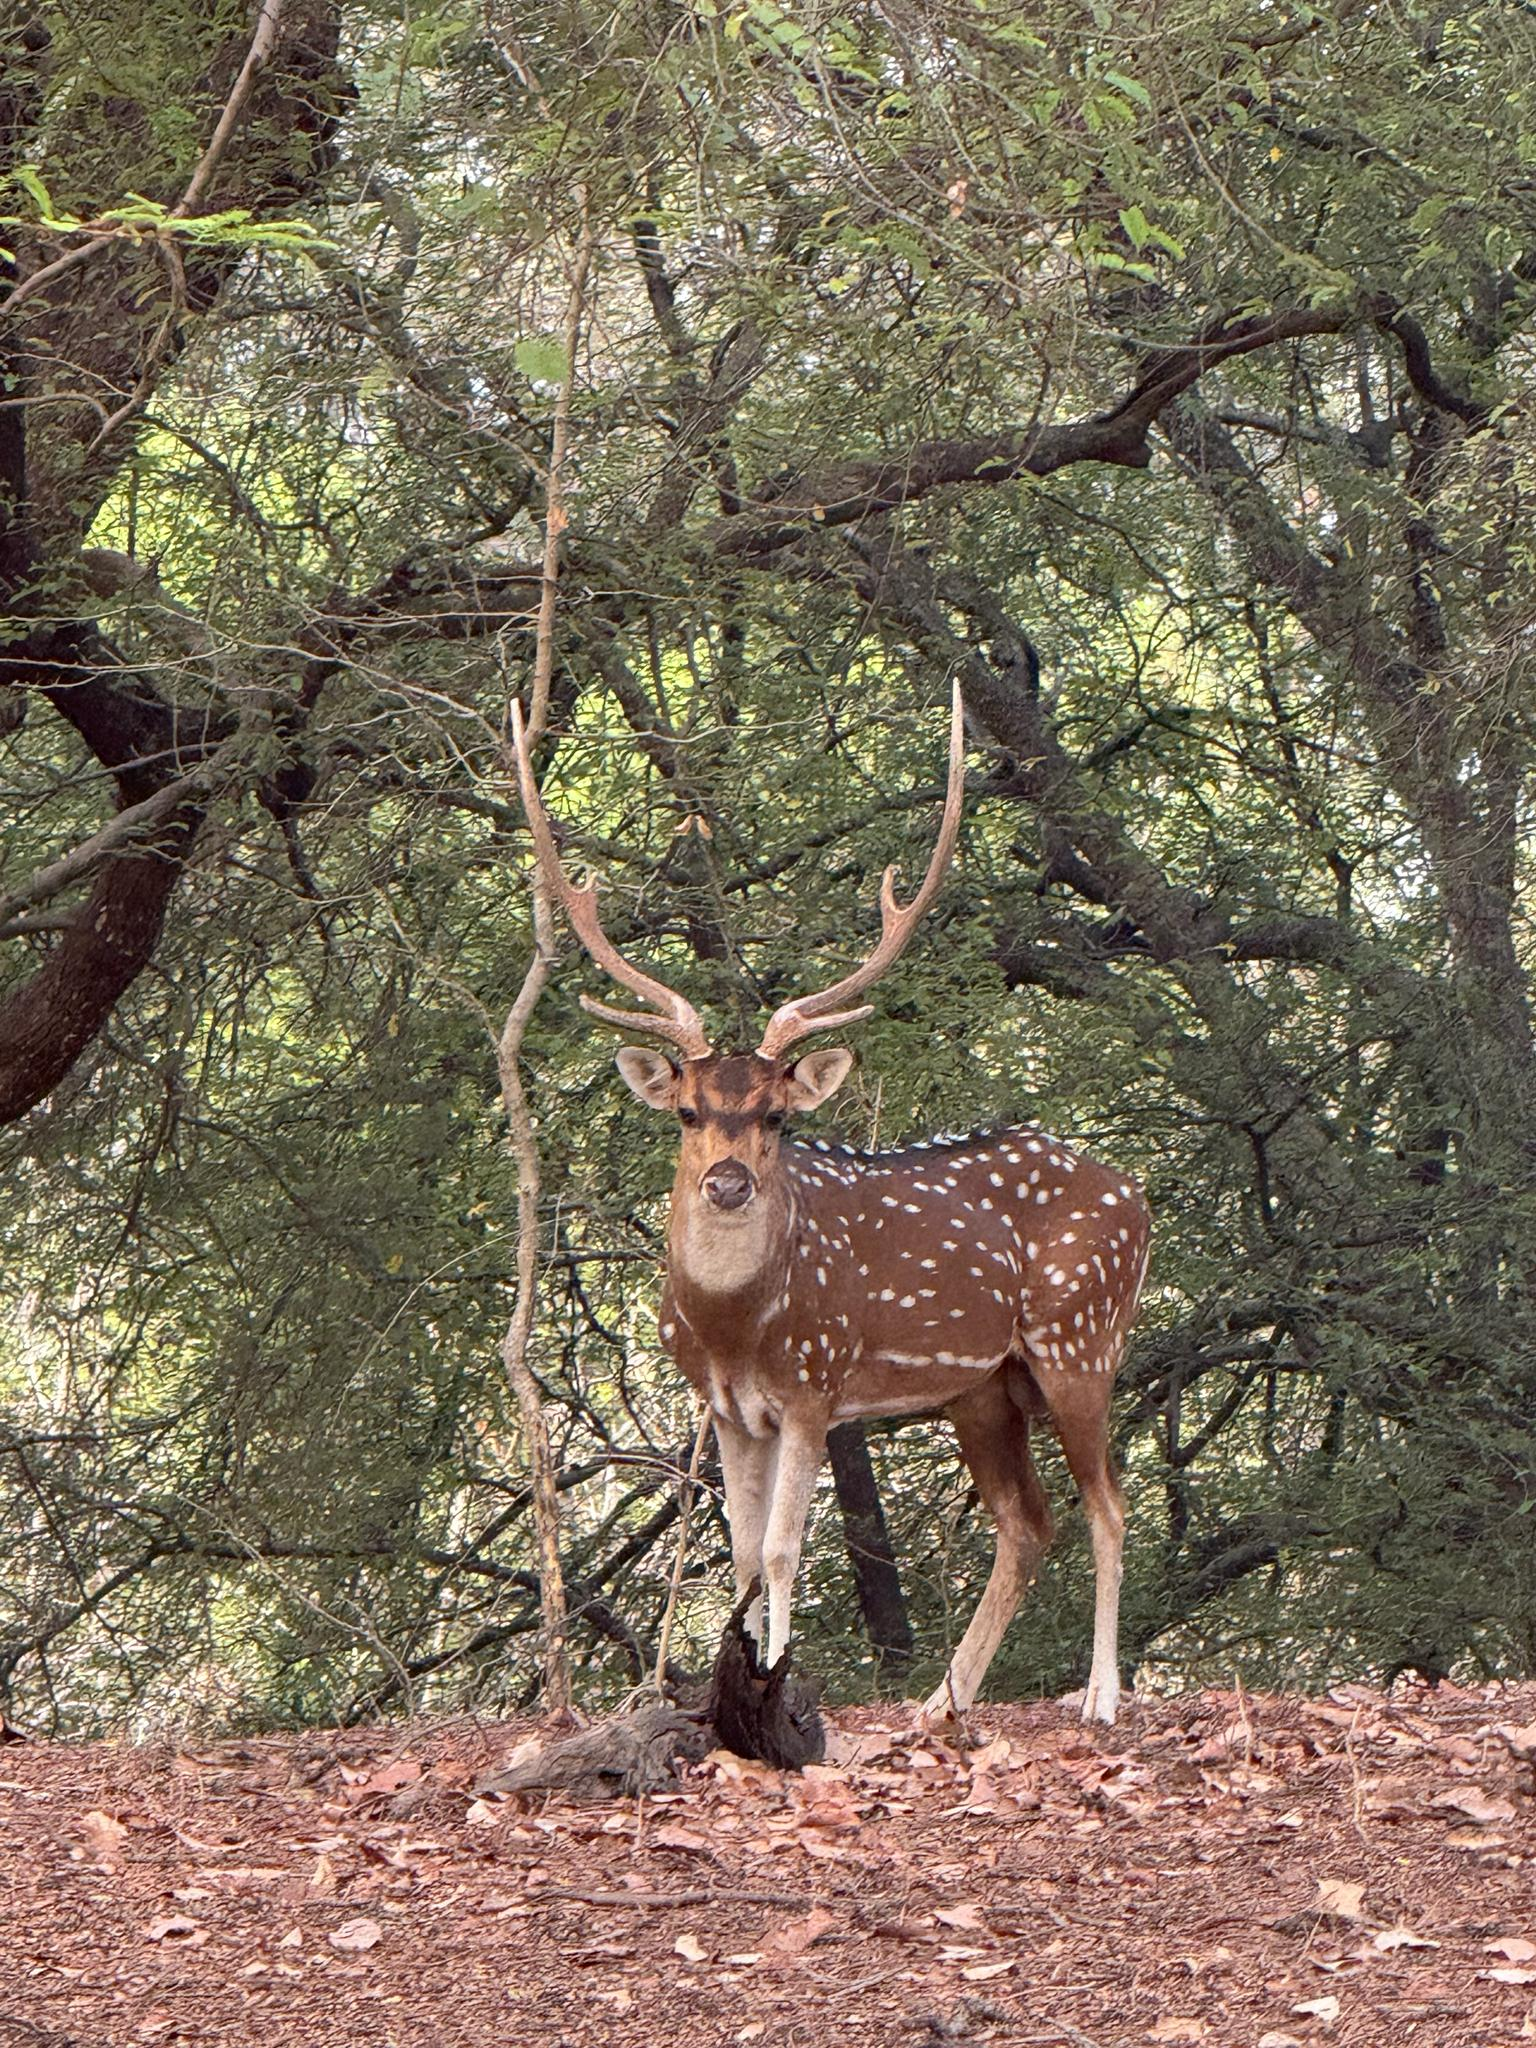Deer: (511, 681, 1149, 1766)
